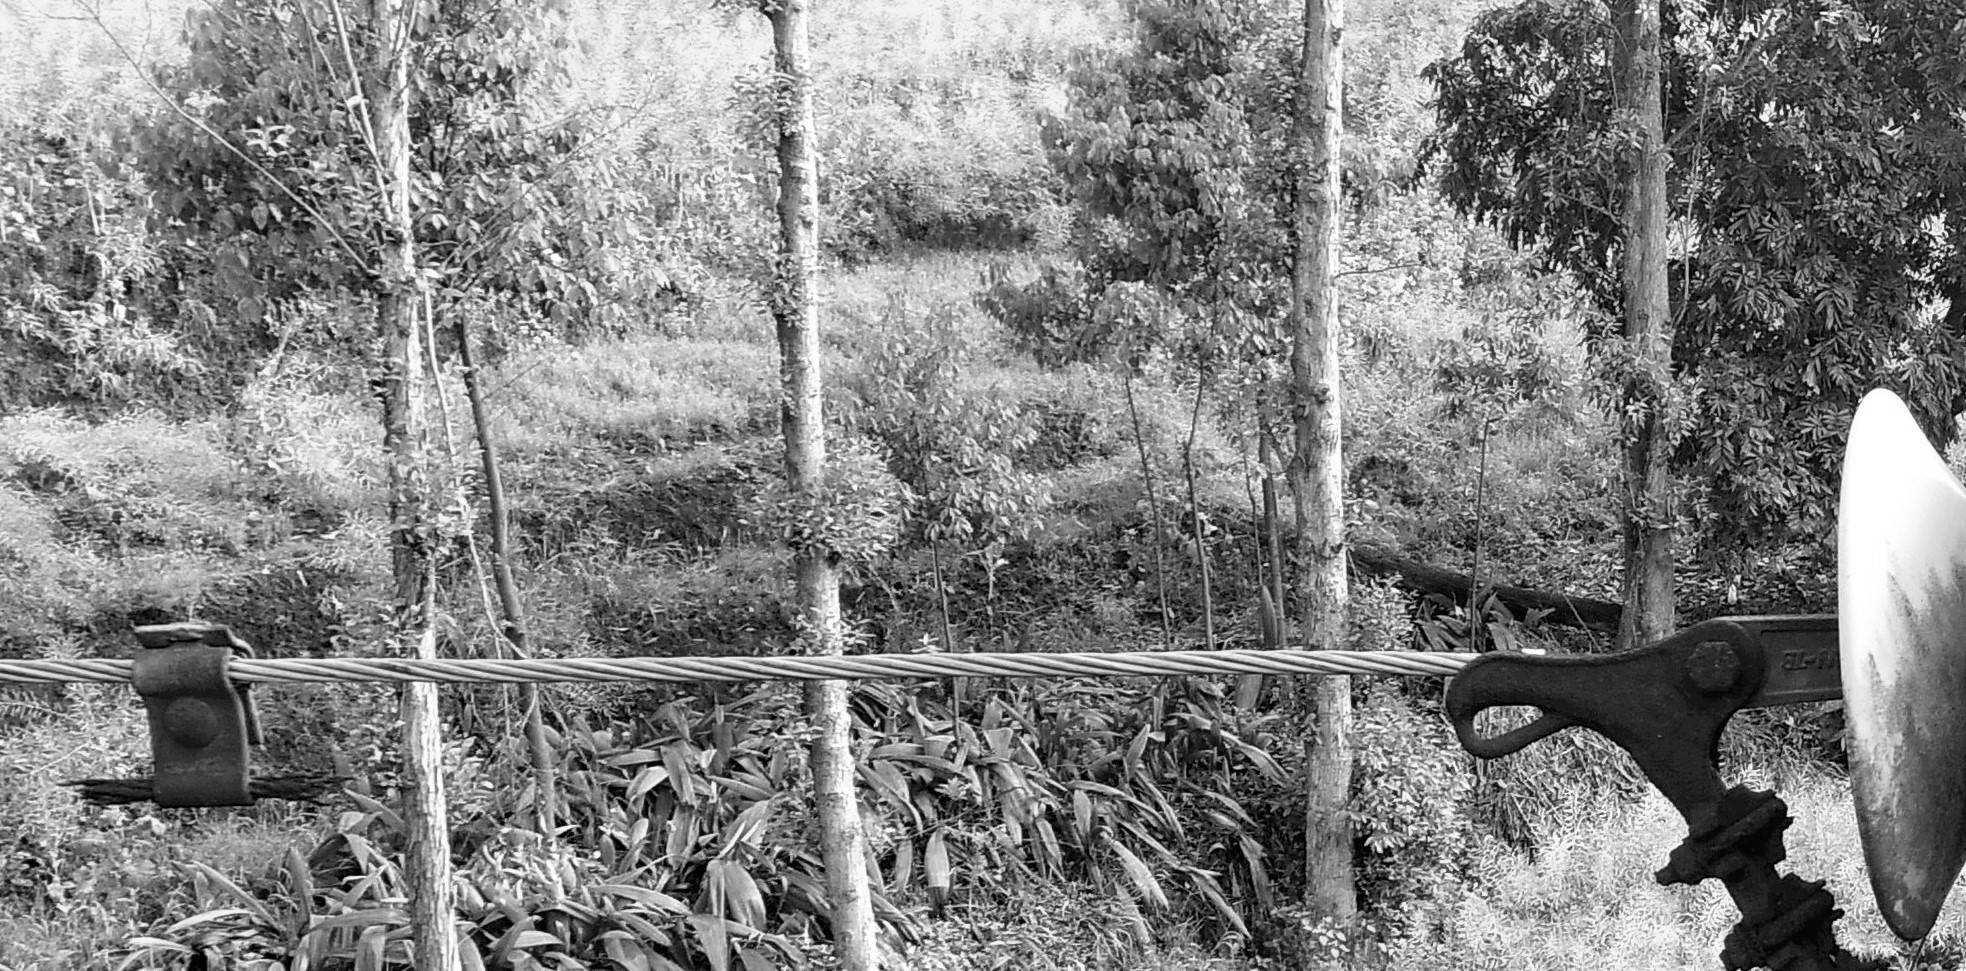Damage of shockproof hammer: (41, 598, 371, 836)
